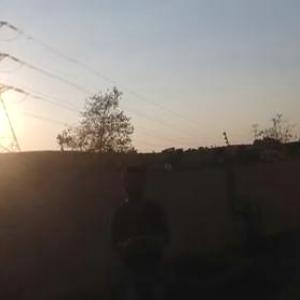follow: (106, 153, 176, 299)
